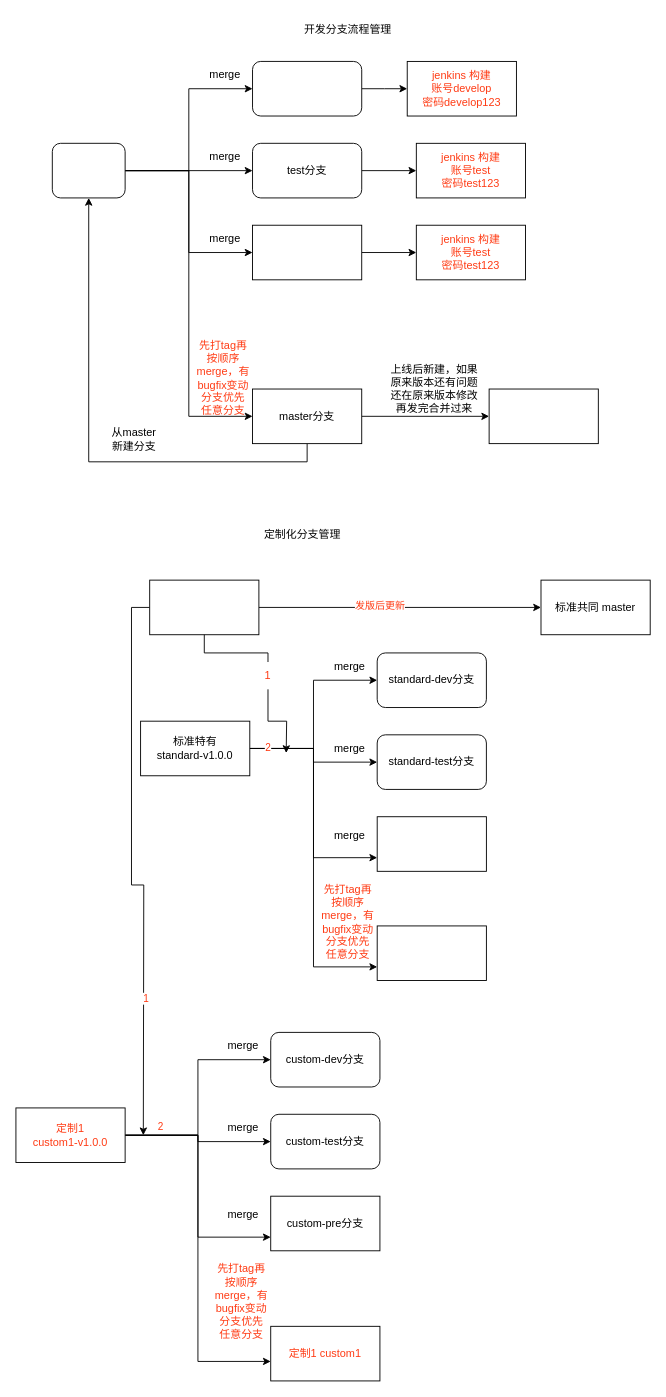
This 666x1397 diagram has some shape labels left out. Here are the shapes that lost their labels. From the top down, the centre of each, then its label:
(x=307, y=88): dev分支
(x=88, y=170): 版本v1.0.0分支
(x=307, y=252): pre分支
(x=543, y=416): bugfix分支
(x=204, y=607): 标准共同 common-v1.0.0
(x=431, y=843): standard-pre分支
(x=431, y=953): 标准特有 standard
